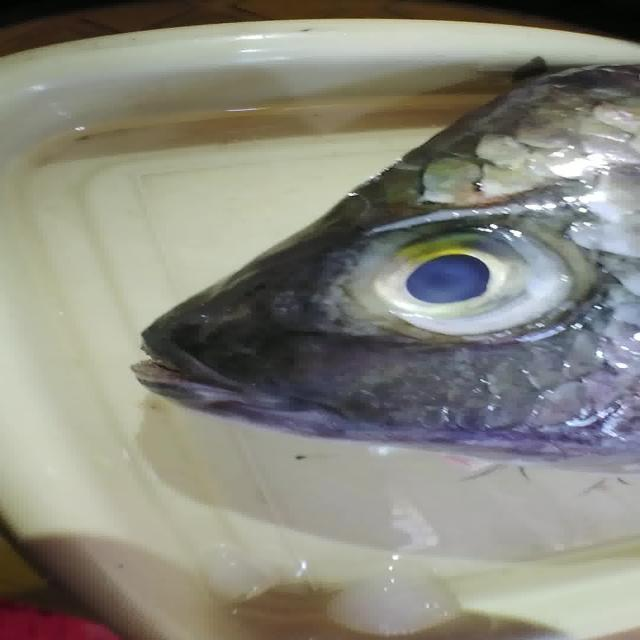Fresh: (312, 217, 589, 350)
